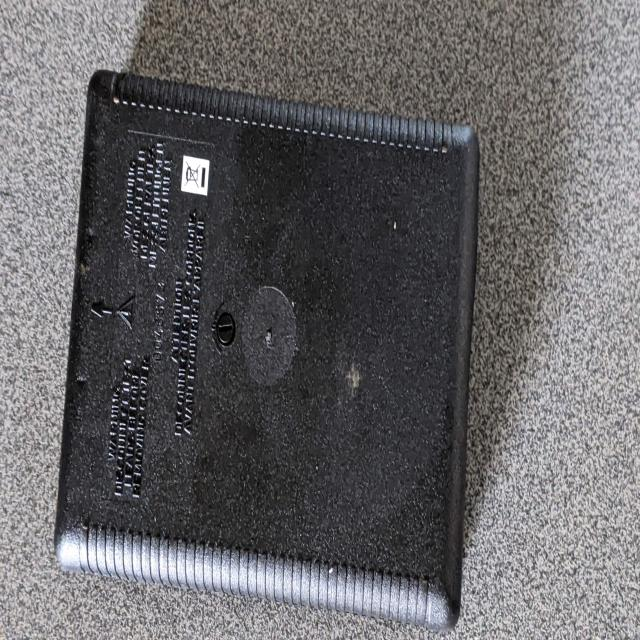Analog Multimeter: (44, 68, 489, 629)
